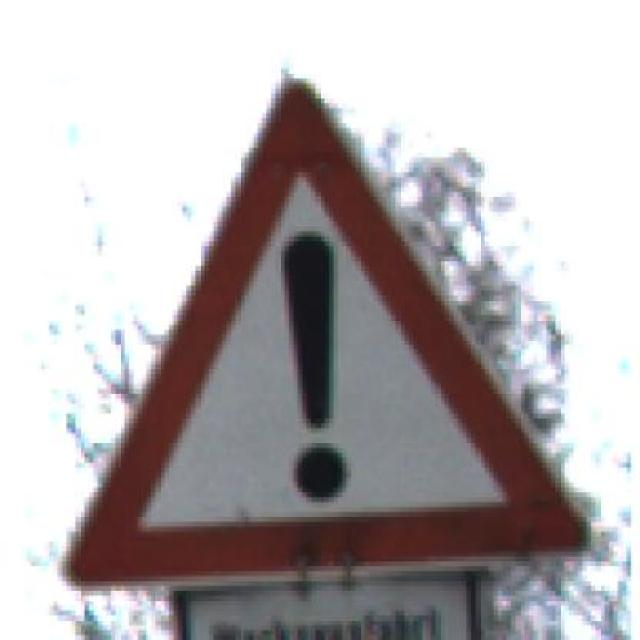Attention Please-: (44, 69, 614, 606)
